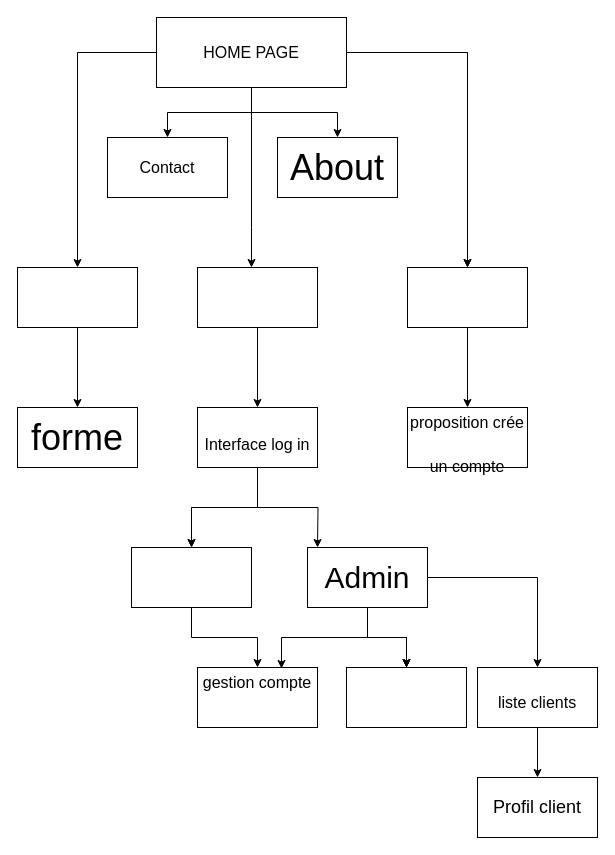
Image size: 615x855. Some labels were removed from this diagram. The centre of each missing label's shape, as x and y in pixels:
inscription: pixel 77 297
login: pixel 257 297
RDV: pixel 467 297
Rdv avenir: pixel 406 697
user: pixel 191 577
